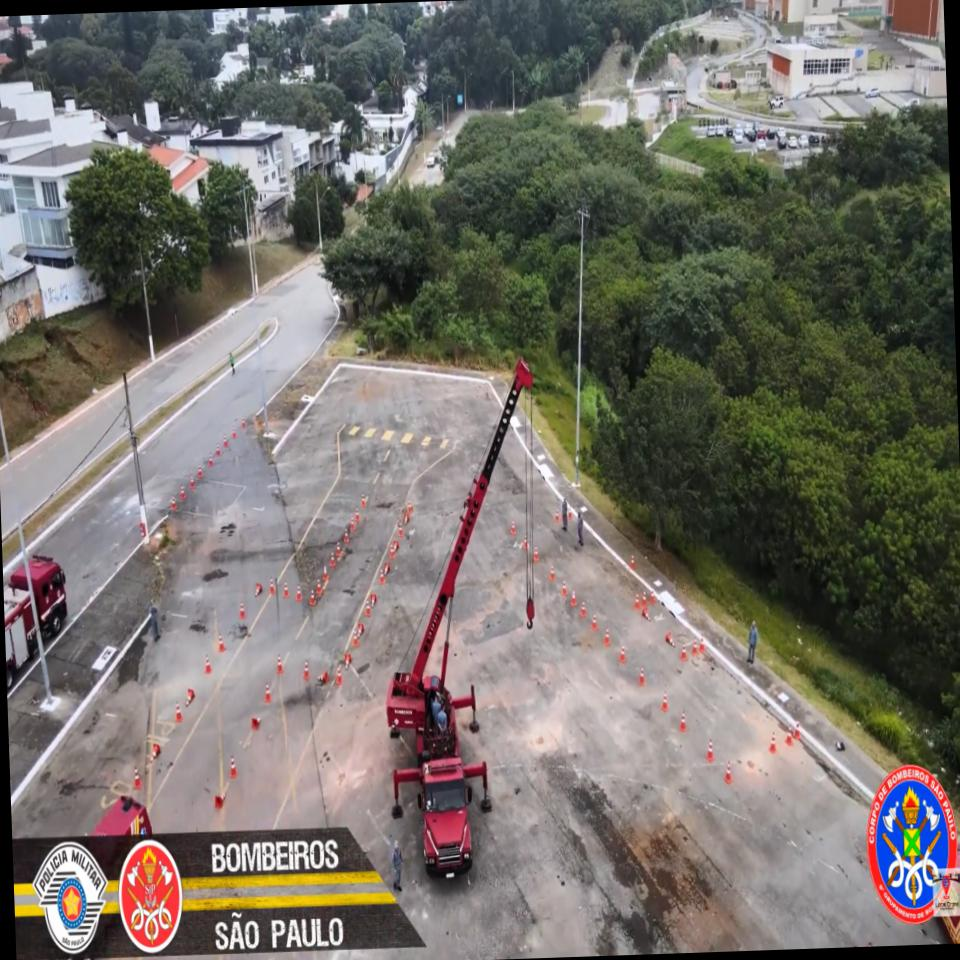viatura: (388, 355, 556, 880), (3, 550, 72, 690)
